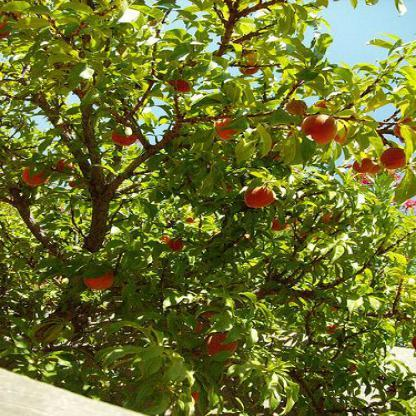Peach leaf: (94, 344, 146, 371), (392, 168, 414, 210), (253, 122, 276, 160), (52, 2, 96, 14)
